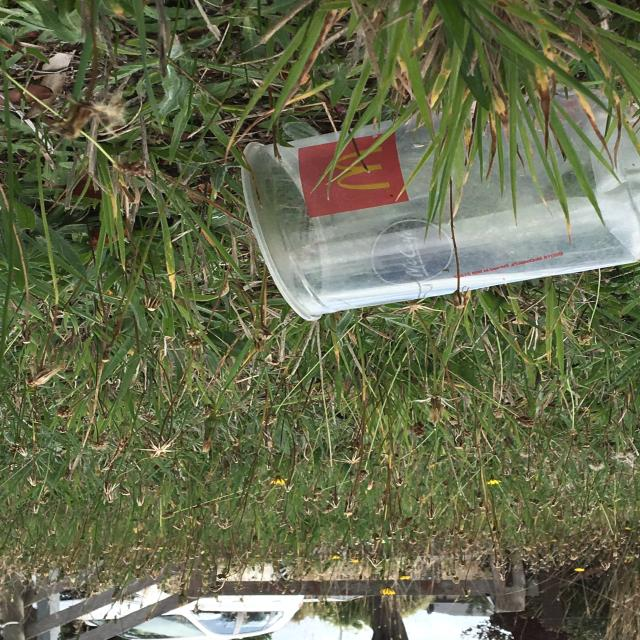Disposable plastic cup: (241, 85, 639, 321)
